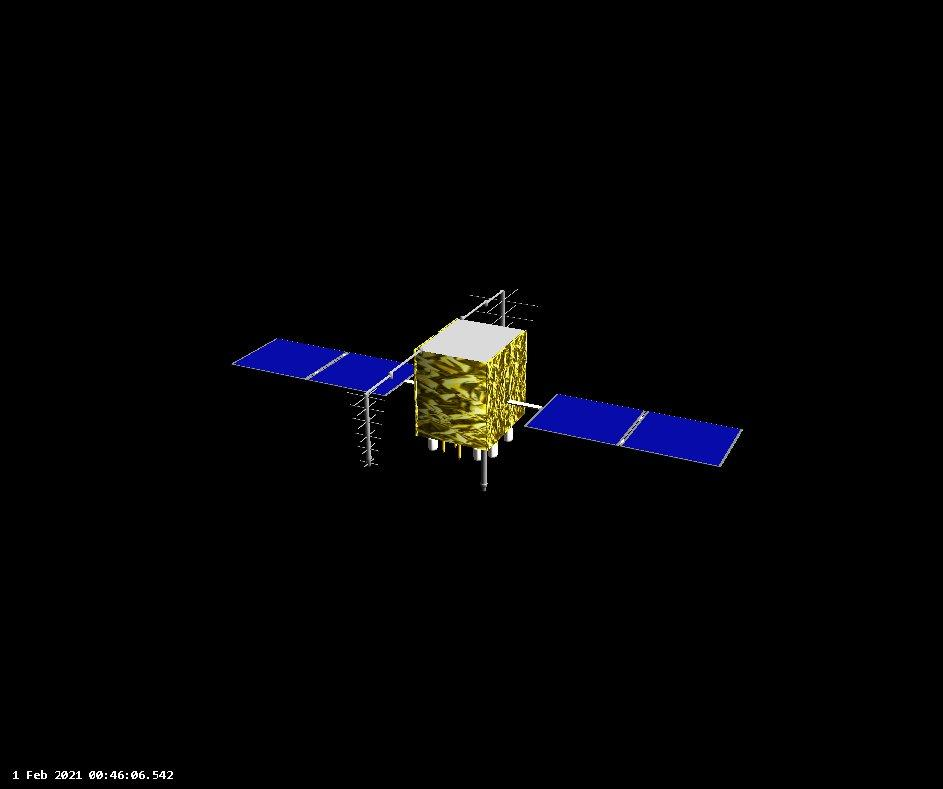antenna: (463, 284, 541, 340), (348, 384, 393, 474), (477, 432, 495, 494)
body: (413, 313, 529, 450)
solar: (504, 388, 745, 475), (227, 331, 421, 397)
